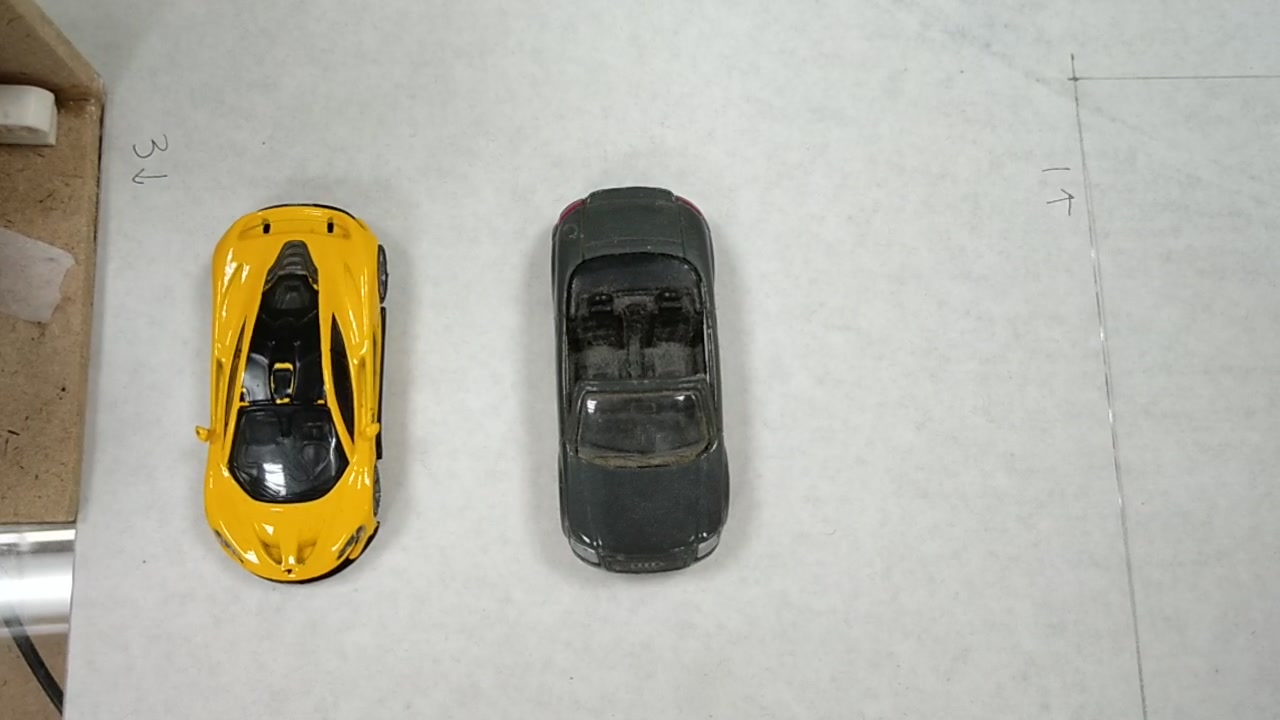car: (202, 203, 402, 557), (555, 186, 729, 555)
